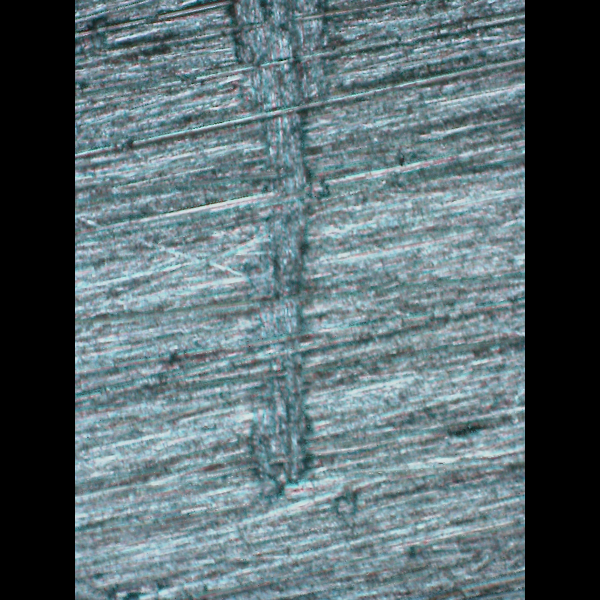d: (220, 0, 333, 497)
